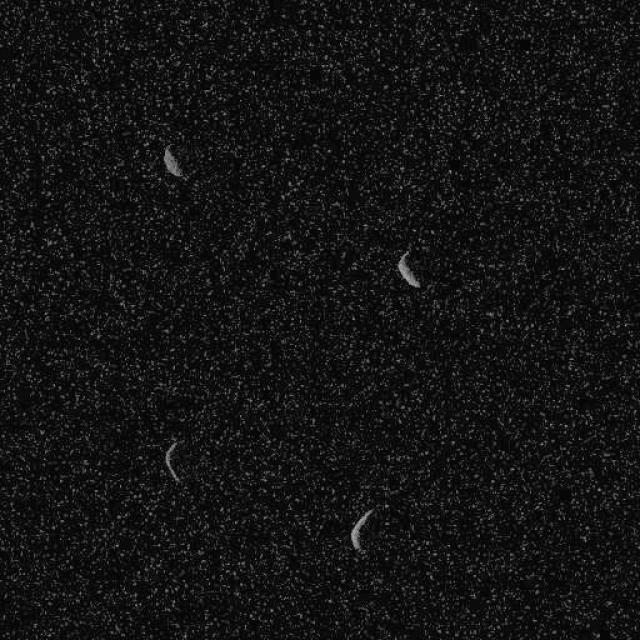D2: (349, 506, 376, 554), (395, 249, 421, 289), (162, 438, 182, 484), (161, 142, 185, 178)
